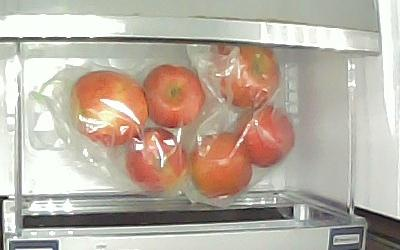apple_vinyl: (73, 71, 148, 145), (214, 46, 283, 108), (189, 131, 252, 198), (126, 128, 187, 194), (143, 65, 205, 127), (235, 107, 298, 167)
